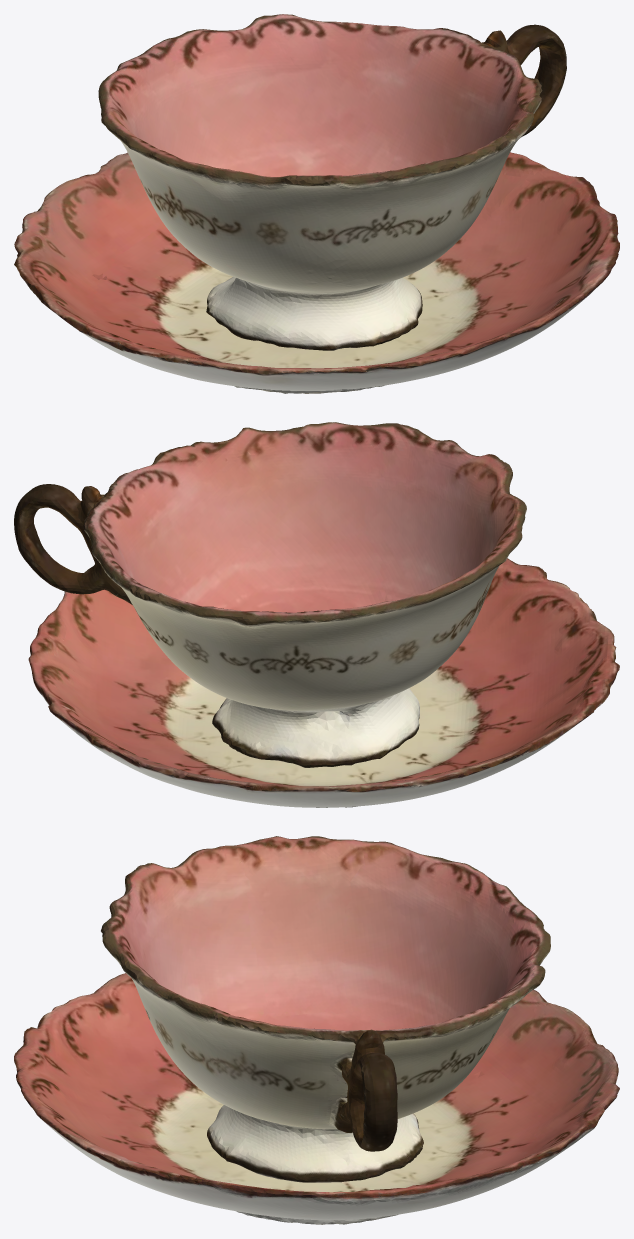
File: tea_cup.glb
3 renders of one model, top to bottom at view 1: azimuth 30°, elevation 25°; view 2: azimuth 150°, elevation 25°; view 3: azimuth 270°, elevation 25°, orthographic.
Parts seen in each view (by area): view 1: BHPS_PinkCupSaucer_Cup_HR:BHPS_PinkCupSaucer_Cup_Mesh_0_lamb, BHPS_PinkCupSaucer_Saucer_HR1:BHPS_pinkCupSaucer_Saucer_Mesh; view 2: BHPS_PinkCupSaucer_Cup_HR:BHPS_PinkCupSaucer_Cup_Mesh_0_lamb, BHPS_PinkCupSaucer_Saucer_HR1:BHPS_pinkCupSaucer_Saucer_Mesh; view 3: BHPS_PinkCupSaucer_Cup_HR:BHPS_PinkCupSaucer_Cup_Mesh_0_lamb, BHPS_PinkCupSaucer_Saucer_HR1:BHPS_pinkCupSaucer_Saucer_Mesh.
Boxes of the visible parts, x1,y1,x2,y2 form: BHPS_PinkCupSaucer_Cup_HR:BHPS_PinkCupSaucer_Cup_Mesh_0_lamb: (98, 14, 566, 350); BHPS_PinkCupSaucer_Saucer_HR1:BHPS_pinkCupSaucer_Saucer_Mesh: (14, 152, 619, 393); BHPS_PinkCupSaucer_Cup_HR:BHPS_PinkCupSaucer_Cup_Mesh_0_lamb: (14, 422, 526, 767); BHPS_PinkCupSaucer_Saucer_HR1:BHPS_pinkCupSaucer_Saucer_Mesh: (28, 558, 619, 807); BHPS_PinkCupSaucer_Cup_HR:BHPS_PinkCupSaucer_Cup_Mesh_0_lamb: (101, 836, 550, 1182); BHPS_PinkCupSaucer_Saucer_HR1:BHPS_pinkCupSaucer_Saucer_Mesh: (14, 973, 619, 1224).
Size of the model in its own units: 154 by 68.38 by 150.
2 materials, 2 textured.
